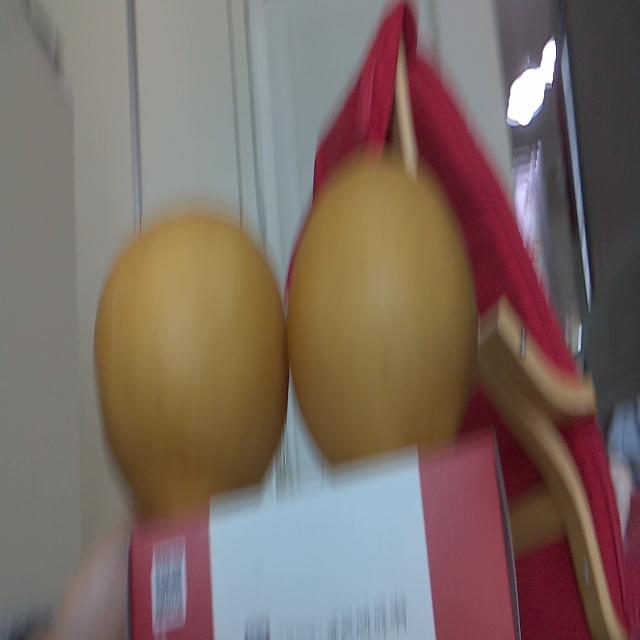pear: (94, 205, 290, 510), (292, 148, 474, 458)
